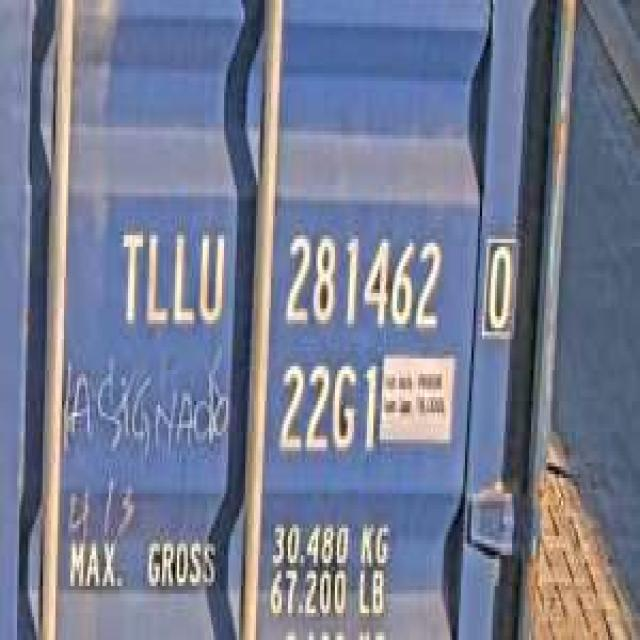dv: (478, 224, 518, 339)
owner: (113, 216, 228, 335)
serial: (277, 220, 446, 339)
size: (273, 351, 386, 470)
